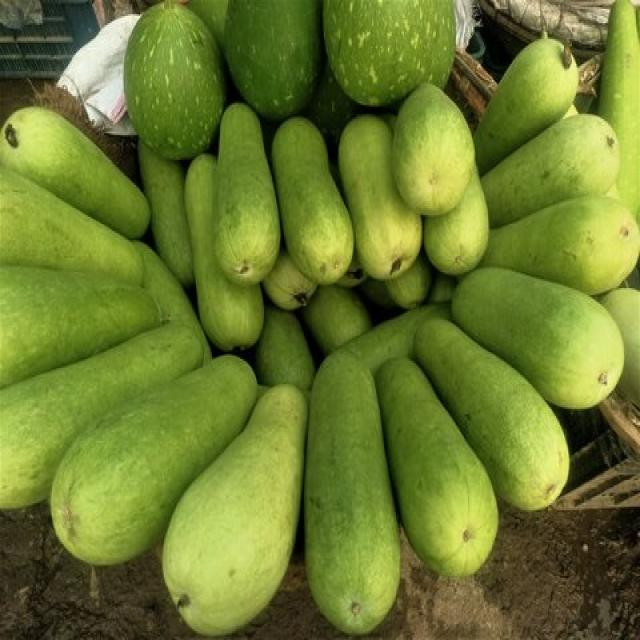Bell Pepper: (594, 0, 638, 229)
Bottle Gourd: (0, 0, 639, 638), (48, 352, 257, 565), (448, 252, 623, 397), (311, 344, 390, 620), (0, 111, 155, 235), (124, 3, 220, 148), (0, 178, 151, 267), (474, 123, 636, 205), (340, 104, 416, 276), (478, 34, 582, 151), (0, 276, 162, 346), (474, 376, 562, 494), (283, 110, 346, 272), (402, 77, 473, 208), (222, 100, 272, 277)
Radish: (160, 382, 308, 636)
